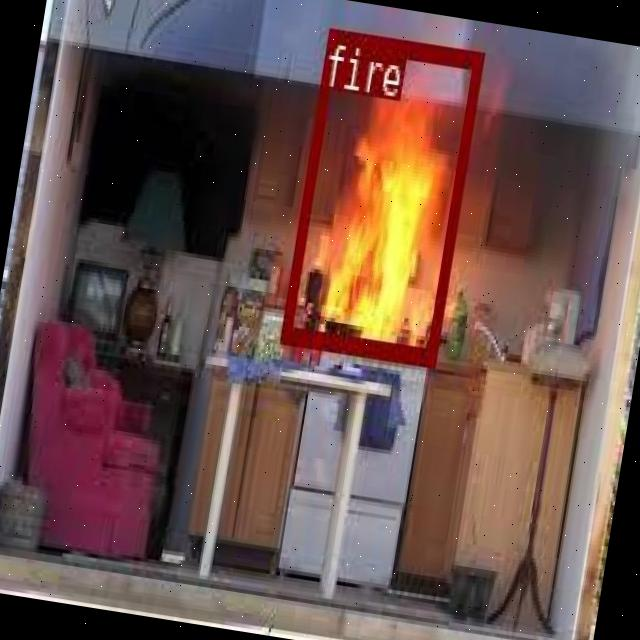fire: (280, 26, 482, 363)
